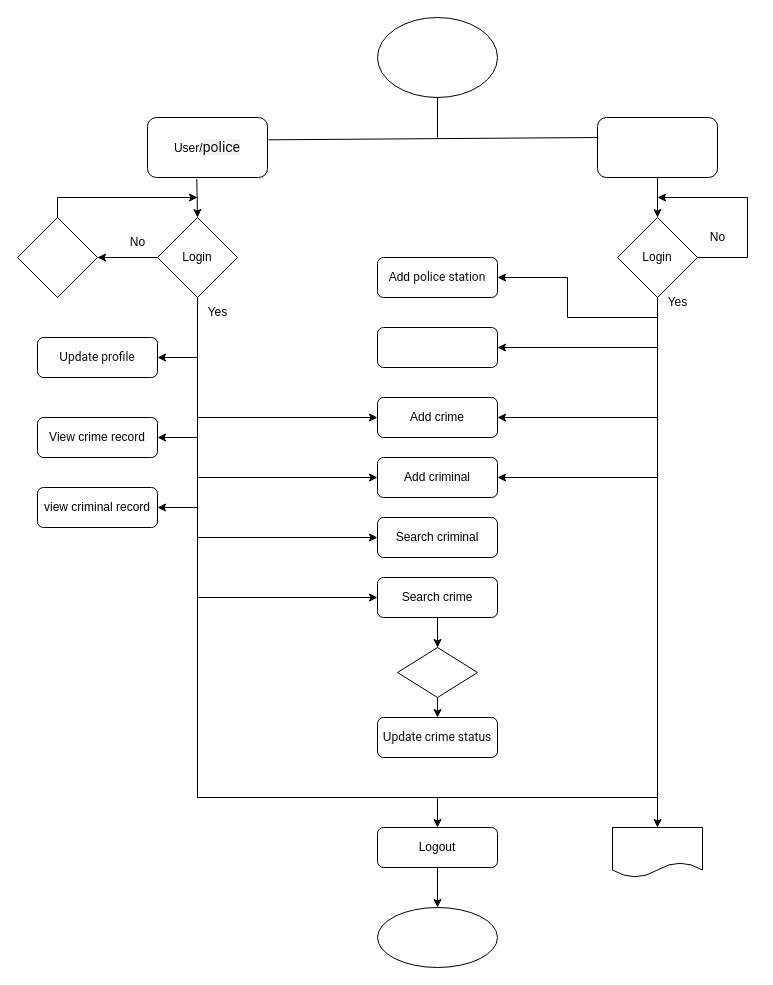
Image size: 773x985. Some labels were removed from this diagram. The centre of each missing label's shape, as x and y in pixels:
"Admin" belongs at (657,147).
"manage police station" belongs at (437,347).
"Re port" belongs at (657,852).
"Register" belongs at (57,257).
"START" belongs at (437,57).
"Status" belongs at (437,672).
"STO P" belongs at (437,937).
